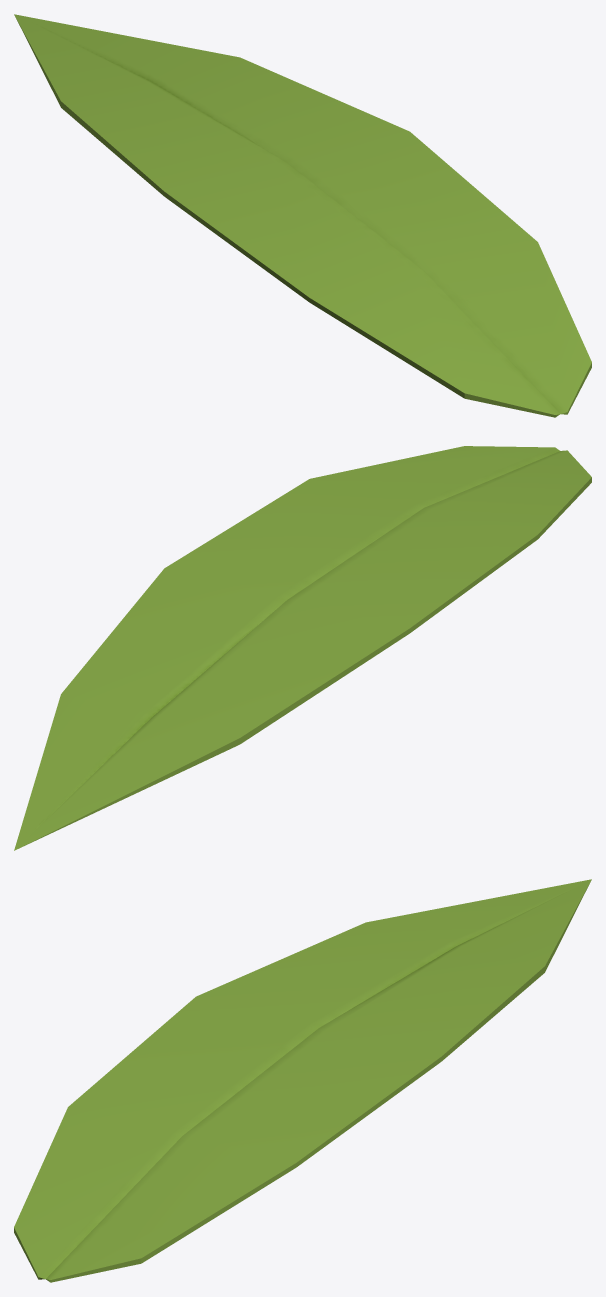
The model's file is longLeaf.fbx.
3 views of the same model, one above another, from view 1: azimuth 30°, elevation 25°; view 2: azimuth 150°, elevation 25°; view 3: azimuth 330°, elevation 25° (orthographic).
Parts seen in each view (by area): view 1: longLeaf_geo; view 2: longLeaf_geo; view 3: longLeaf_geo.
Part boxes in pixels (<box>): longLeaf_geo: <box>14,14,591,417</box>; longLeaf_geo: <box>14,446,591,850</box>; longLeaf_geo: <box>14,879,591,1282</box>.
Bounding box in the file's own units: 18.17 × 3.81 × 70.13.
1 material, 1 textured.
